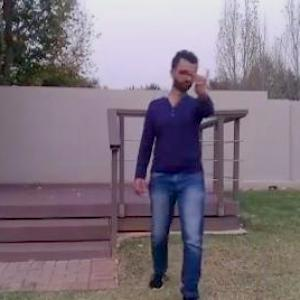takeoff-hand: (185, 59, 217, 101)
